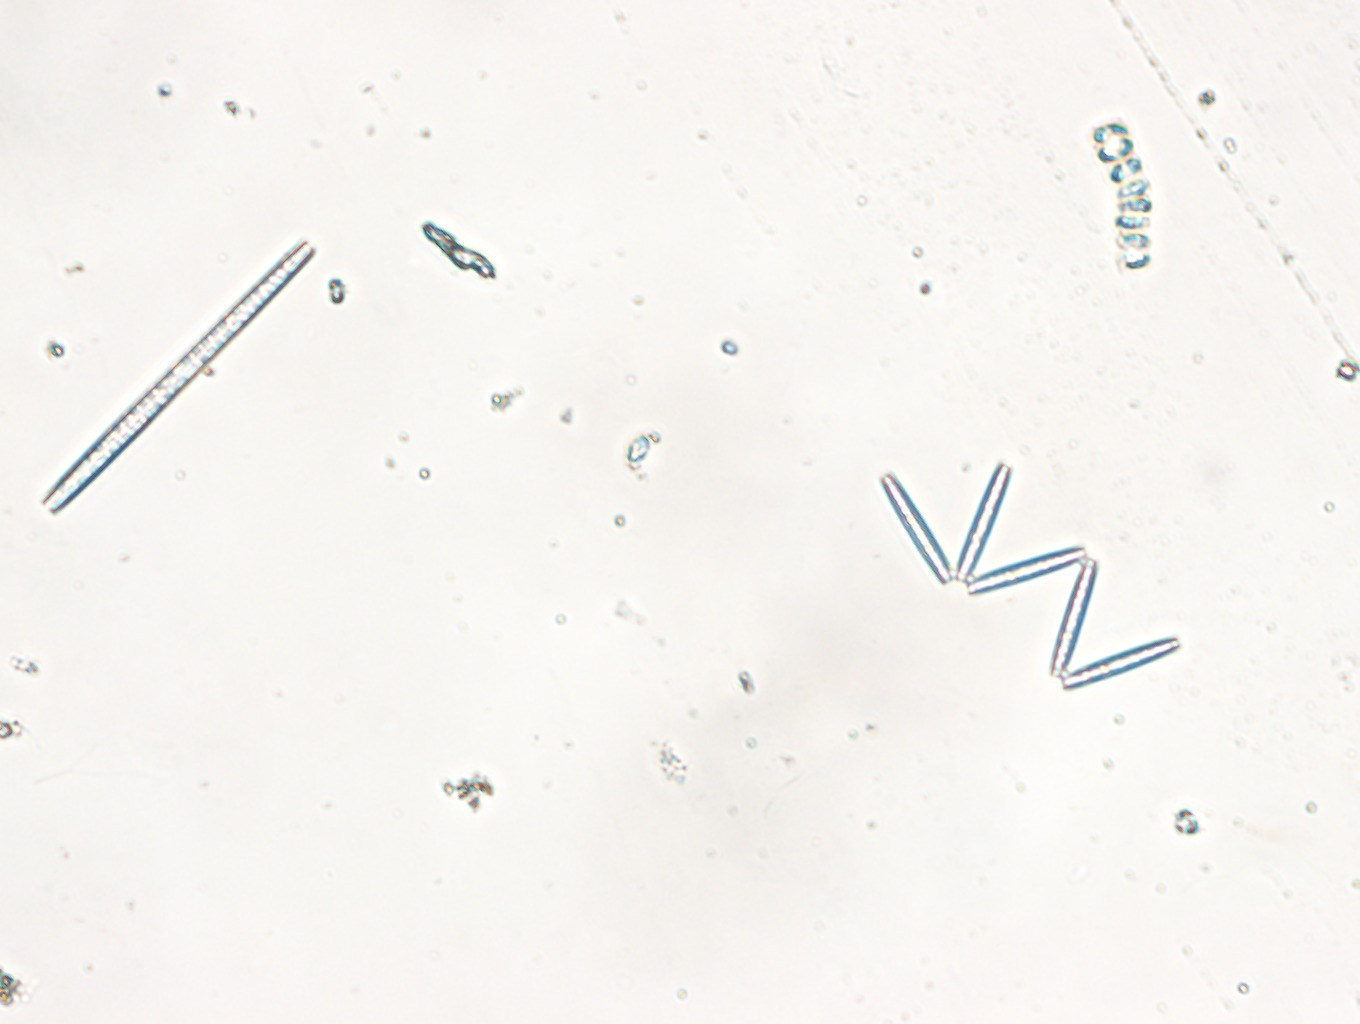skeletonema: (1092, 123, 1156, 271)
thalassionema nitzschioides: (40, 239, 314, 513), (881, 464, 1180, 687)
